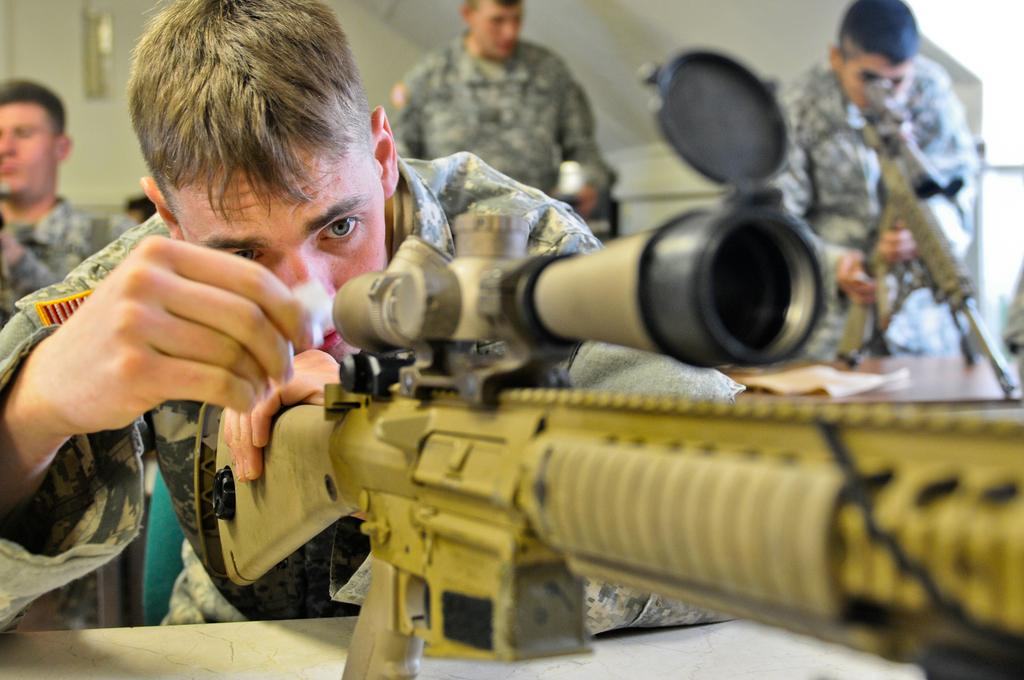Rifle: (200, 44, 1023, 679), (837, 77, 1016, 397)
